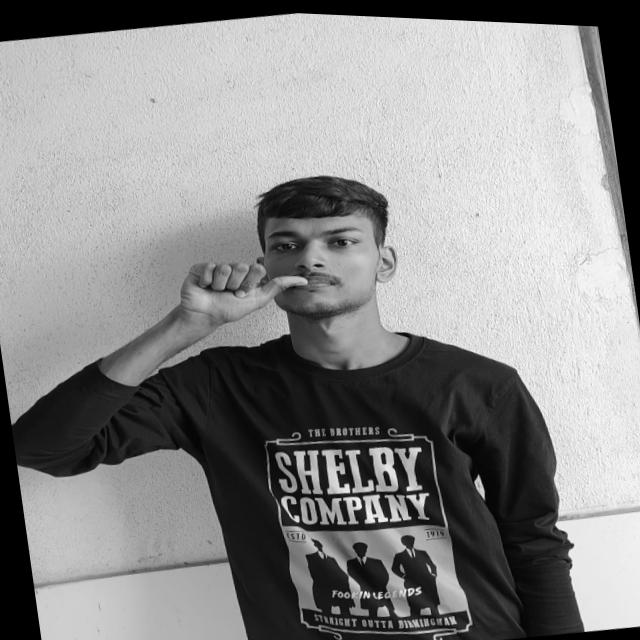Drink: (162, 243, 325, 334)
